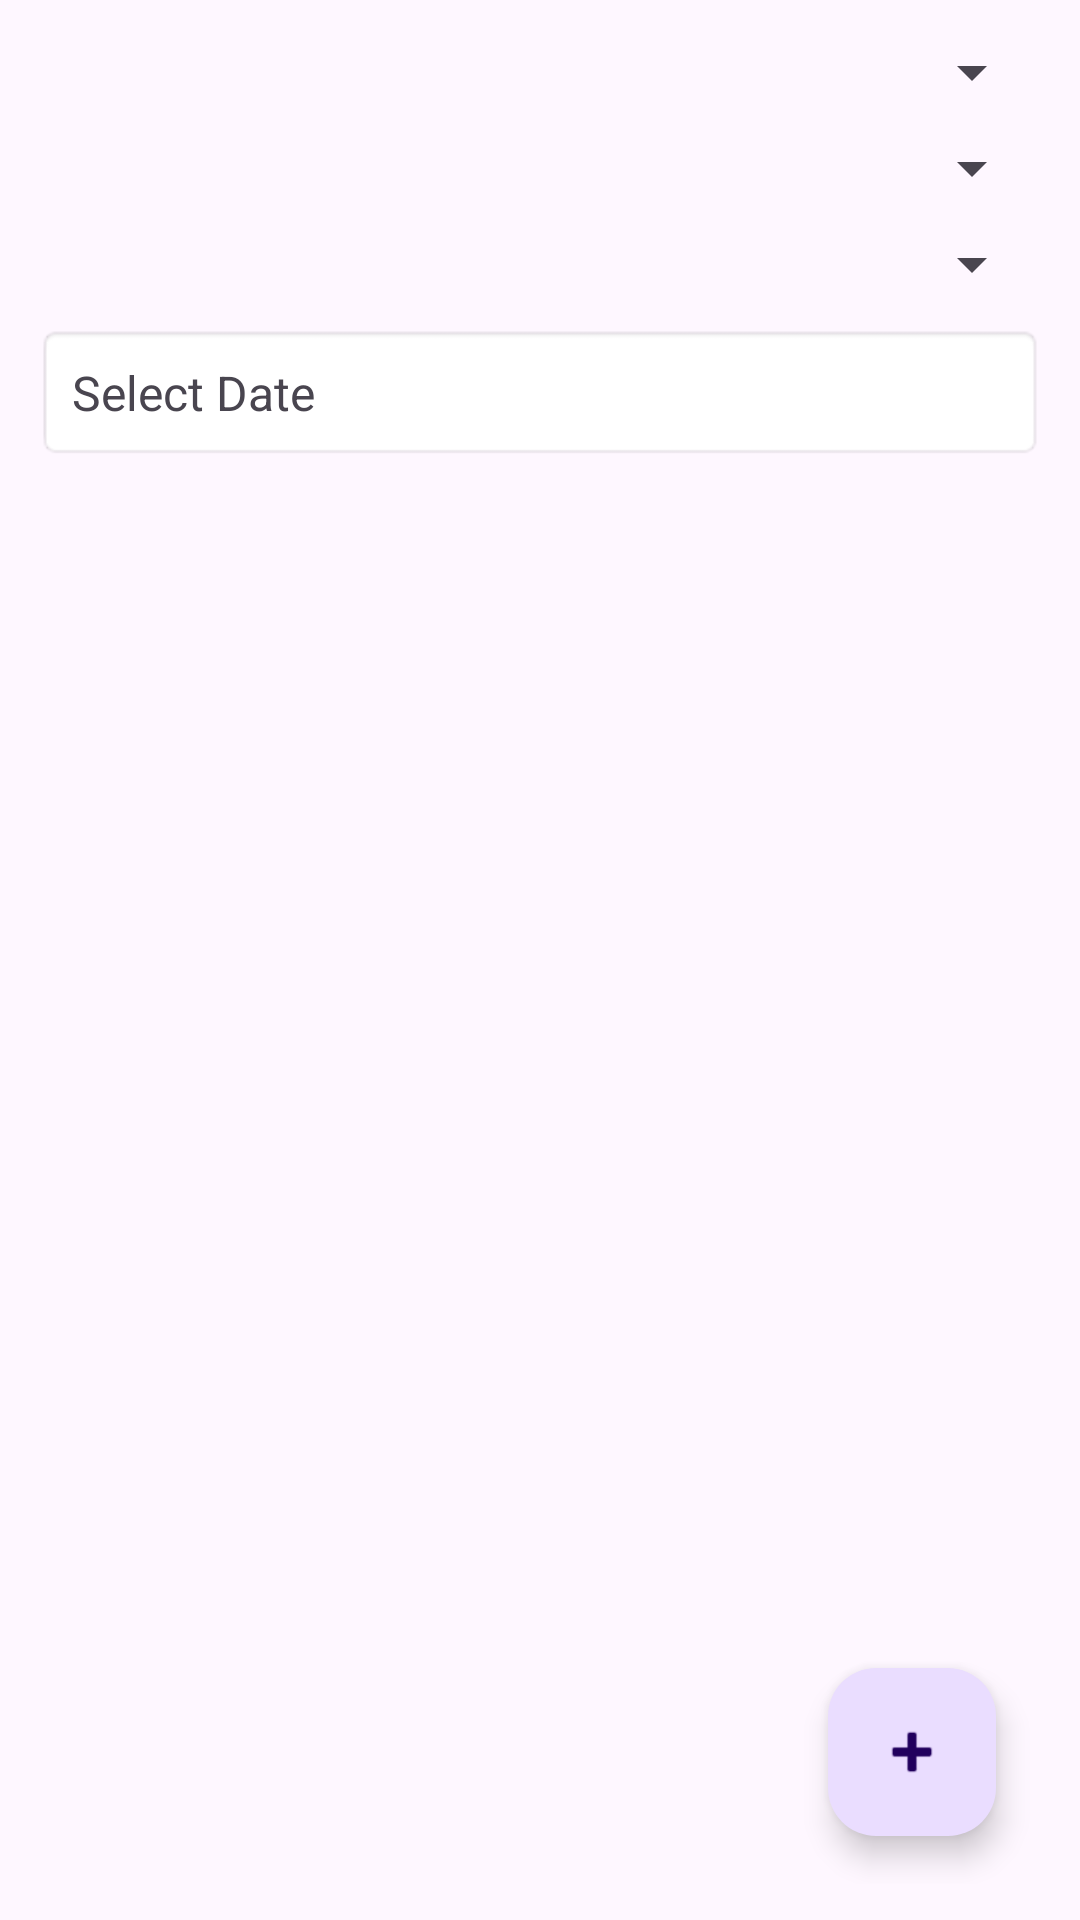

Icons on this 1080×1920 Android screen, each with the point to tap as [x,y]:
Add Student: [912,1752]
